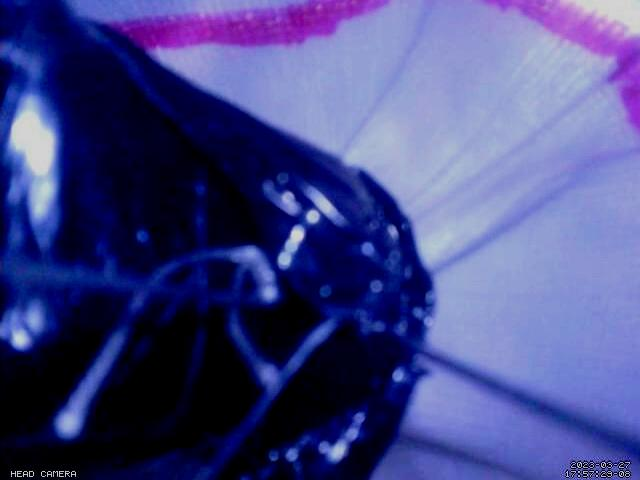red-circle: (104, 0, 640, 134)
